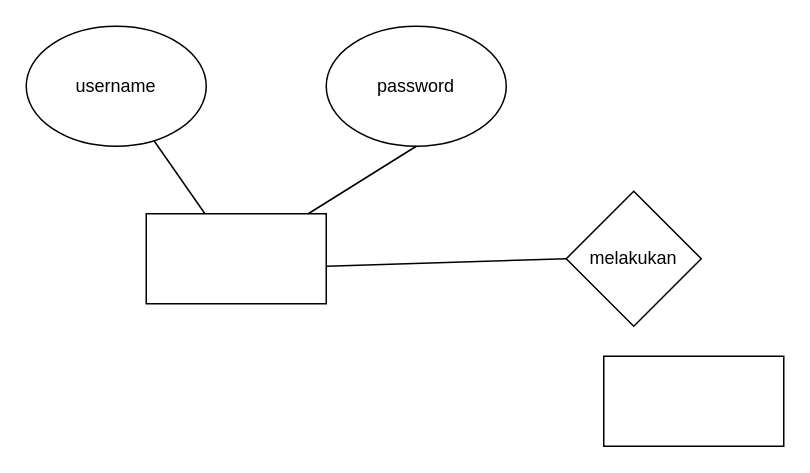
Image size: 810x473. Some labels were removed from this diagram. The centre of each missing label's shape, as x and y in pixels:
login: the point at 693,400
penumpang: the point at 235,258
